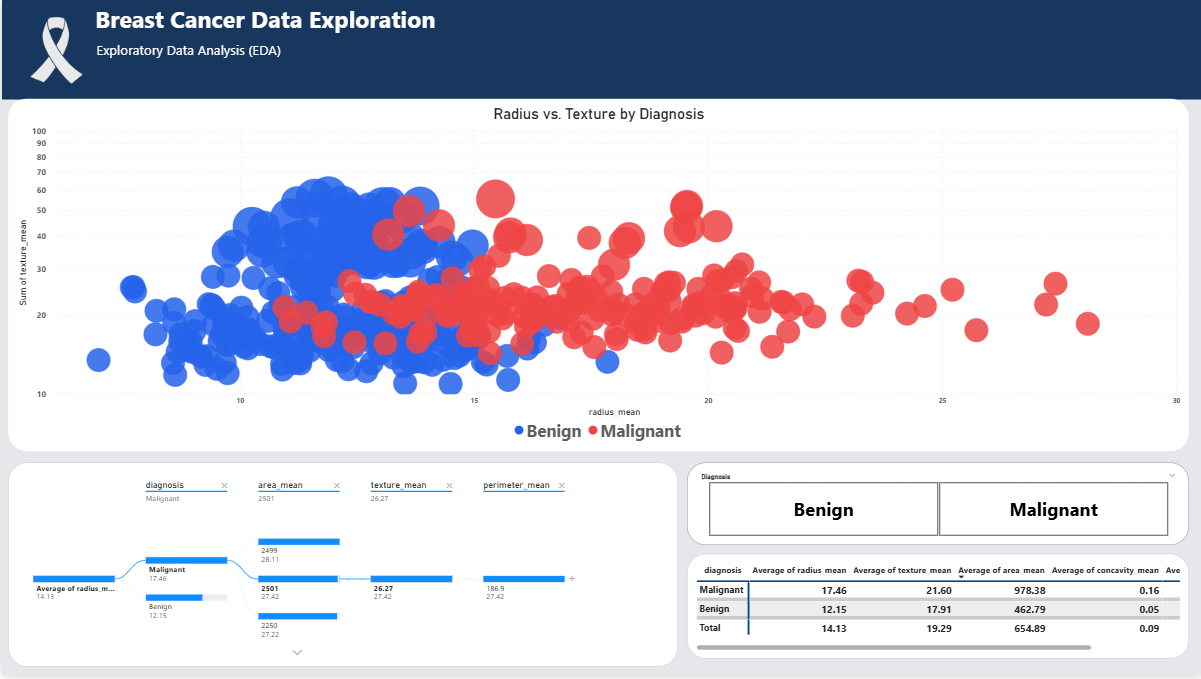

What the dashboard file says about the page in this screenshot:
{"tool":"powerbi","page":{"name":"Page 2","canvas":[1920,1080],"ordinal":1},"visuals":[{"type":"shape","box":[0,0,1920,90],"z":0},{"type":"textbox","box":[0,0,1920.8,158.9],"z":1000},{"type":"textbox","box":[0,60,1920,88],"z":2000},{"type":"scatterChart","title":"Radius vs. Texture by Diagnosis","fields":{"X":["breast_cancer_dashboard.radius_mean"],"Series":["breast_cancer_dashboard.diagnosis"],"Size":["CountNonNull(breast_cancer_dashboard.area_mean)"],"Y":["Sum(breast_cancer_dashboard.texture_mean)"]},"box":[10.7,158.9,1888.7,564.1],"z":3000},{"type":"image","box":[10,10,152,148],"z":4000},{"type":"pivotTable","fields":{"Rows":["breast_cancer_dashboard.diagnosis"],"Values":["Avg(breast_cancer_dashboard.radius_mean)","Avg(breast_cancer_dashboard.texture_mean)","Avg(breast_cancer_dashboard.area_mean)","Avg(breast_cancer_dashboard.concavity_mean)","Avg(breast_cancer_dashboard.perimeter_mean)"]},"box":[1096.1,885.4,803.3,167.8],"z":5000},{"type":"slicer","fields":{"Values":["breast_cancer_dashboard.diagnosis"]},"box":[1096.1,740.8,803.3,132.1],"z":6000},{"type":"decompositionTreeVisual","fields":{"Analyze":["Avg(breast_cancer_dashboard.radius_mean)"],"ExplainBy":["breast_cancer_dashboard.diagnosis","breast_cancer_dashboard.area_mean","breast_cancer_dashboard.texture_mean","breast_cancer_dashboard.perimeter_mean","breast_cancer_dashboard.concavity_mean"]},"box":[10.7,740.8,1071.1,326.7],"z":7000}]}

Visuals, with their boxes in screenshot pixels (x1, y1, x2, y2), scaled from the page's 1920x1080 canvas onto the 1201x679 screenshot:
shape: x1=0 y1=0 x2=1200 y2=57
textbox: x1=0 y1=0 x2=1200 y2=100
textbox: x1=0 y1=38 x2=1200 y2=93
"Radius vs. Texture by Diagnosis" scatterChart: x1=7 y1=100 x2=1188 y2=455
image: x1=6 y1=6 x2=101 y2=99
pivotTable - breast_cancer_dashboard.diagnosis x Avg(breast_cancer_dashboard.radius_mean): x1=686 y1=557 x2=1188 y2=662
slicer - breast_cancer_dashboard.diagnosis: x1=686 y1=466 x2=1188 y2=549
decompositionTreeVisual - Avg(breast_cancer_dashboard.radius_mean) x breast_cancer_dashboard.diagnosis: x1=7 y1=466 x2=677 y2=671
